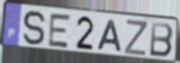2: (75, 15, 95, 52)
A: (96, 18, 123, 53)
B: (149, 21, 175, 59)
E: (46, 12, 73, 50)
S: (22, 10, 47, 48)
Z: (123, 19, 148, 58)
